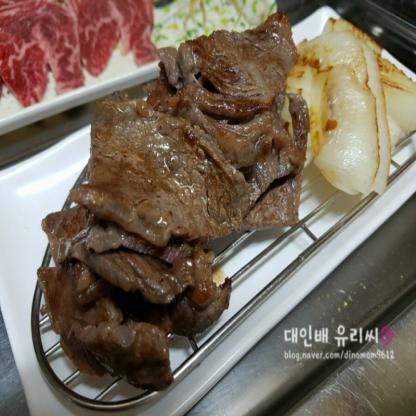Carne: (143, 80, 303, 242), (73, 87, 242, 236), (34, 258, 176, 391), (152, 11, 306, 114), (84, 228, 222, 327)
